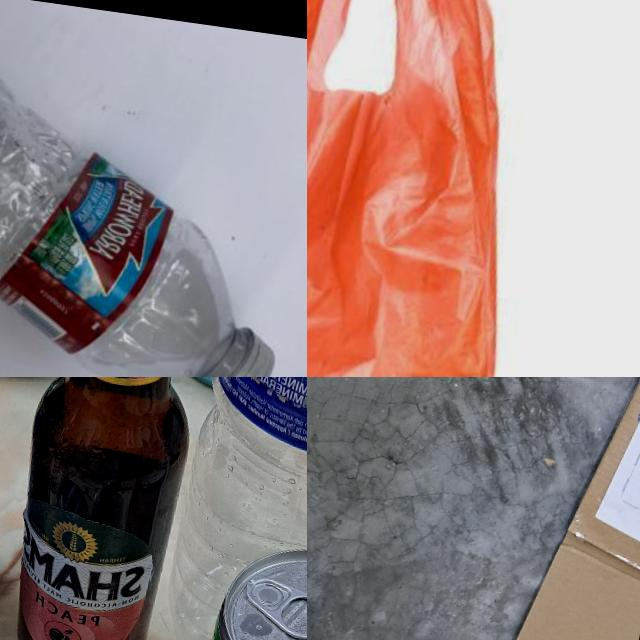aba de lata: (238, 571, 307, 640)
garrafa de vidro: (0, 377, 201, 640), (0, 377, 25, 639)
garrafa plástica: (0, 0, 278, 377), (165, 377, 307, 640)
papelão: (492, 377, 640, 640)
sacola plástica: (307, 0, 595, 377)
tampa plástica: (194, 319, 281, 377)
